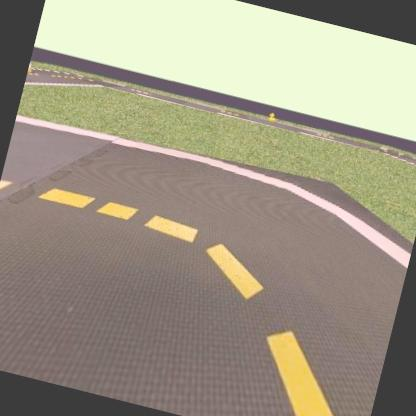Cone: (27, 54, 38, 75)
Duckie: (267, 110, 278, 125)
